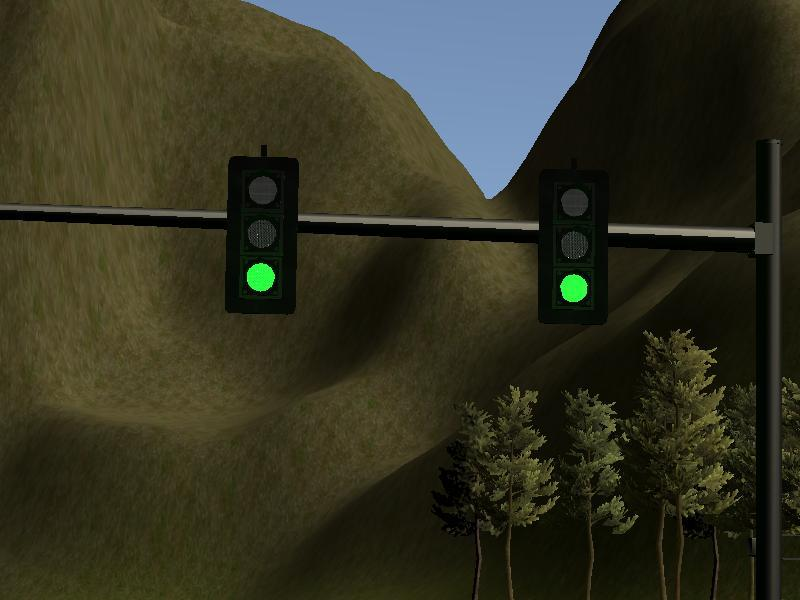Green: (229, 157, 295, 311), (541, 173, 602, 321)
